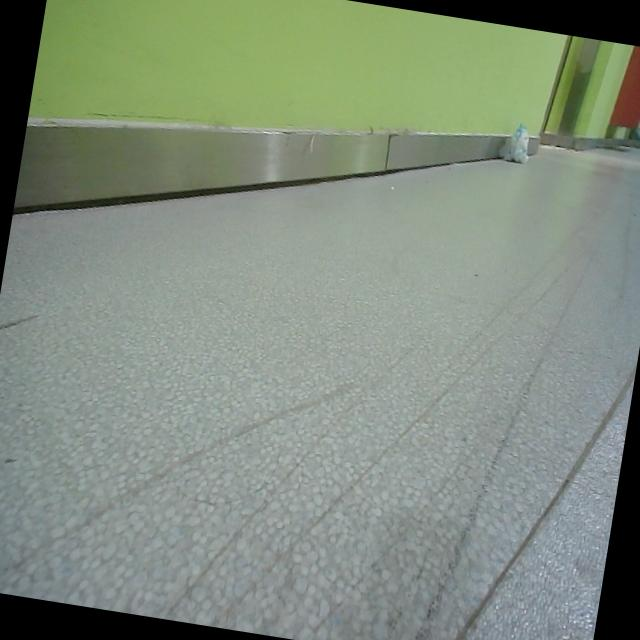xiaoba: (507, 119, 539, 168)
